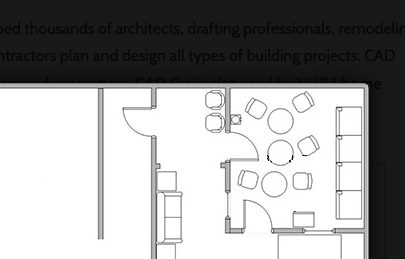door: (118, 103, 161, 143), (241, 195, 276, 238)
